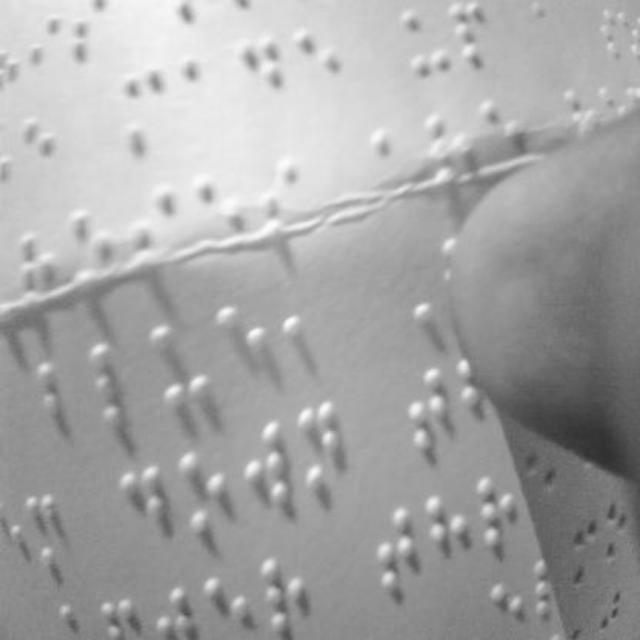braiile: (150, 317, 216, 413), (245, 407, 298, 517), (294, 394, 348, 501), (214, 299, 272, 397), (372, 501, 426, 605), (117, 460, 173, 560), (176, 445, 232, 543), (238, 28, 292, 128), (90, 342, 148, 434), (292, 16, 344, 116), (269, 542, 321, 640), (425, 482, 475, 582), (178, 47, 228, 145), (400, 367, 454, 457), (38, 352, 88, 448), (282, 280, 334, 370), (396, 0, 454, 78), (120, 58, 167, 152), (24, 486, 72, 570), (449, 1, 493, 73)
